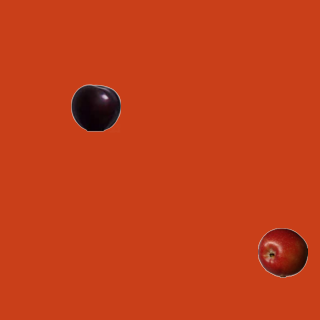Apple Braeburn: (257, 227, 307, 277)
Cherry Wax Black: (70, 82, 120, 132)
